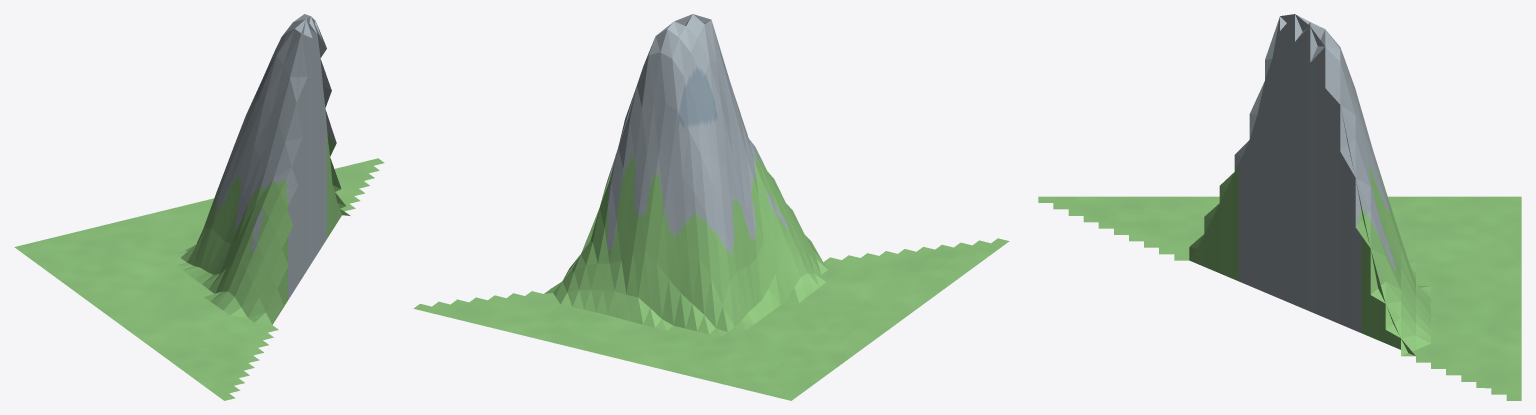
The model's file is Grass_RockyMountains_04_SW.obj.
3 renders of one model, left to right at view 1: azimuth 30°, elevation 25°; view 2: azimuth 150°, elevation 25°; view 3: azimuth 270°, elevation 25°, orthographic. The views are drawn at different scales.
Bounding box in the file's own units: 10 × 6.65 × 10.
Materials: 1 (1 with a texture image).
